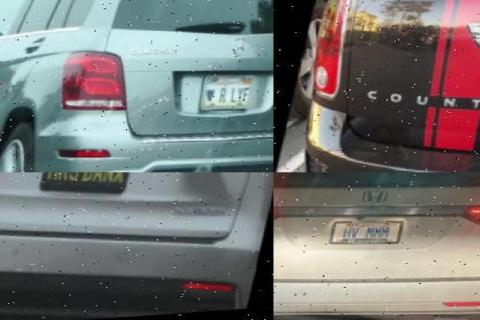LicensePlate: (44, 173, 140, 205), (202, 74, 263, 116), (330, 223, 407, 247)
